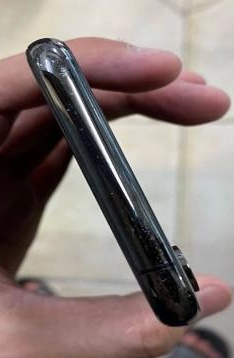scratch: (121, 216, 186, 308), (30, 40, 89, 125)
